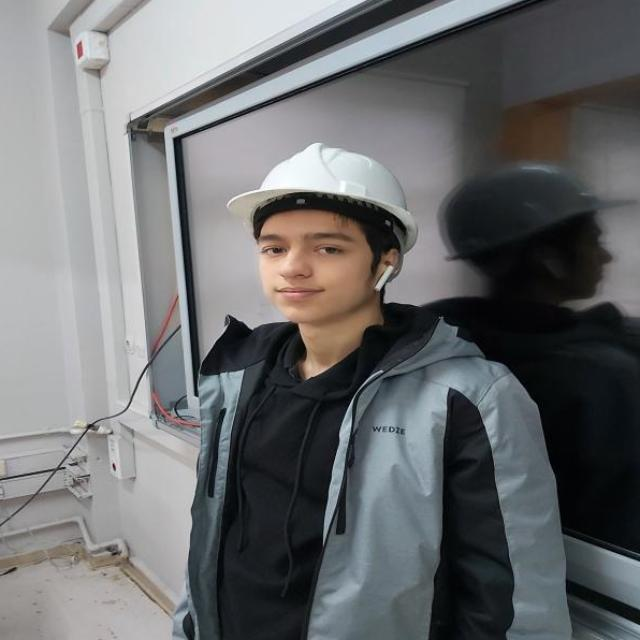helmet: (225, 140, 418, 254), (437, 160, 636, 261)
